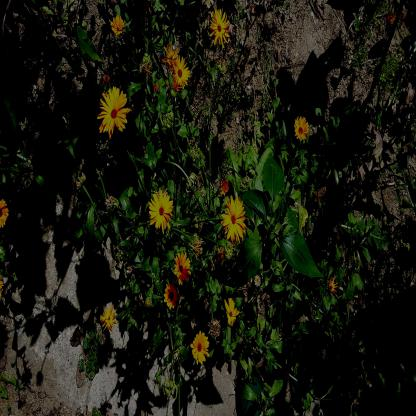marigold: (97, 85, 129, 137), (220, 193, 248, 246), (149, 188, 172, 232), (209, 7, 232, 45), (170, 51, 192, 87), (173, 250, 194, 287), (190, 329, 210, 366), (223, 290, 239, 328), (163, 281, 182, 310), (102, 302, 118, 332), (293, 115, 309, 142), (109, 14, 125, 35), (0, 196, 9, 229)
